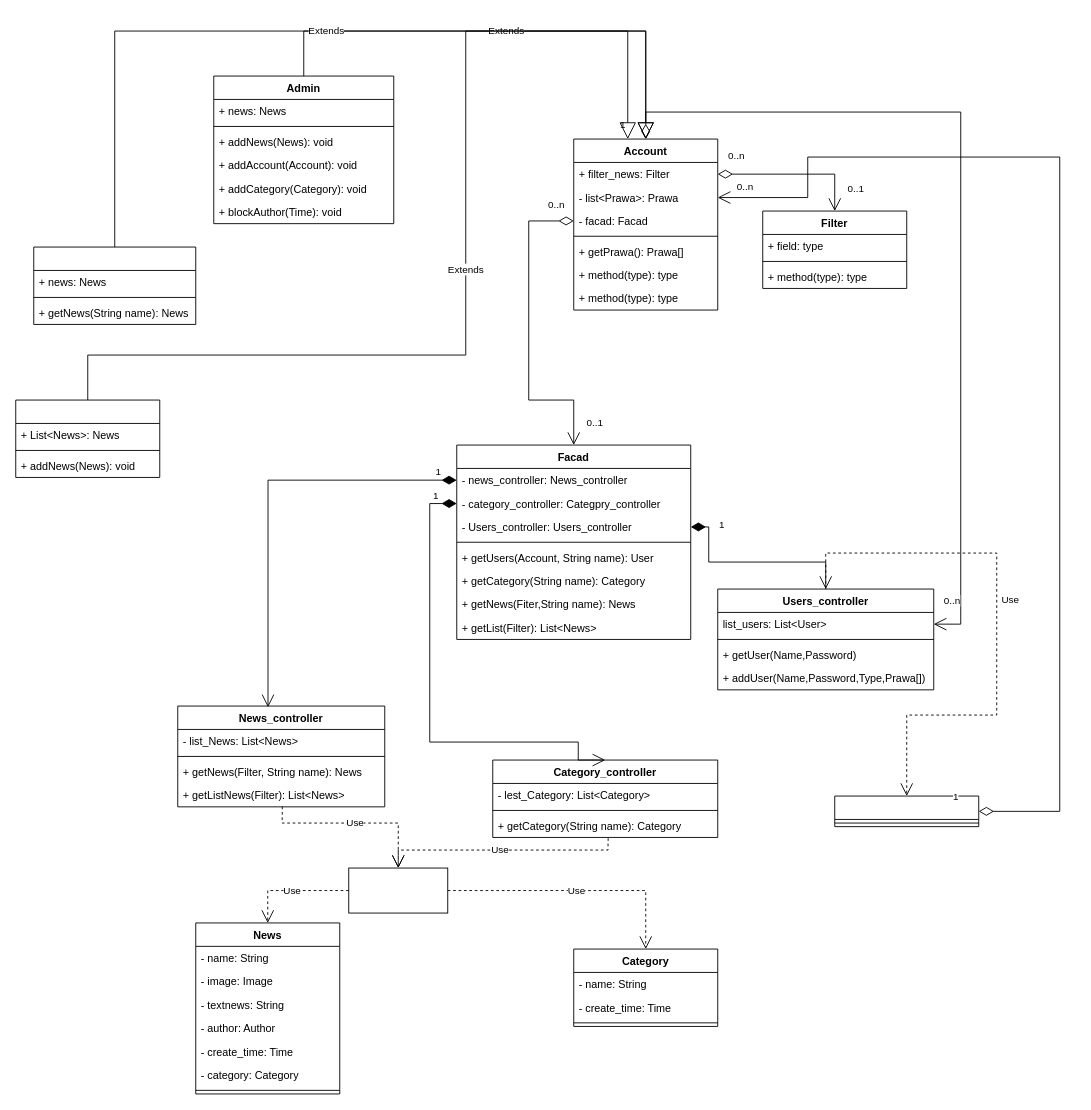
Image size: 1091x1110. Some labels were removed from this diagram. Here are the shapes that lost their labels. From the top down, the box of each, then its label:
(33, 246, 196, 324): User
(15, 399, 160, 477): Author
(834, 795, 979, 827): Prawa
(348, 867, 448, 913): IManagerObject
